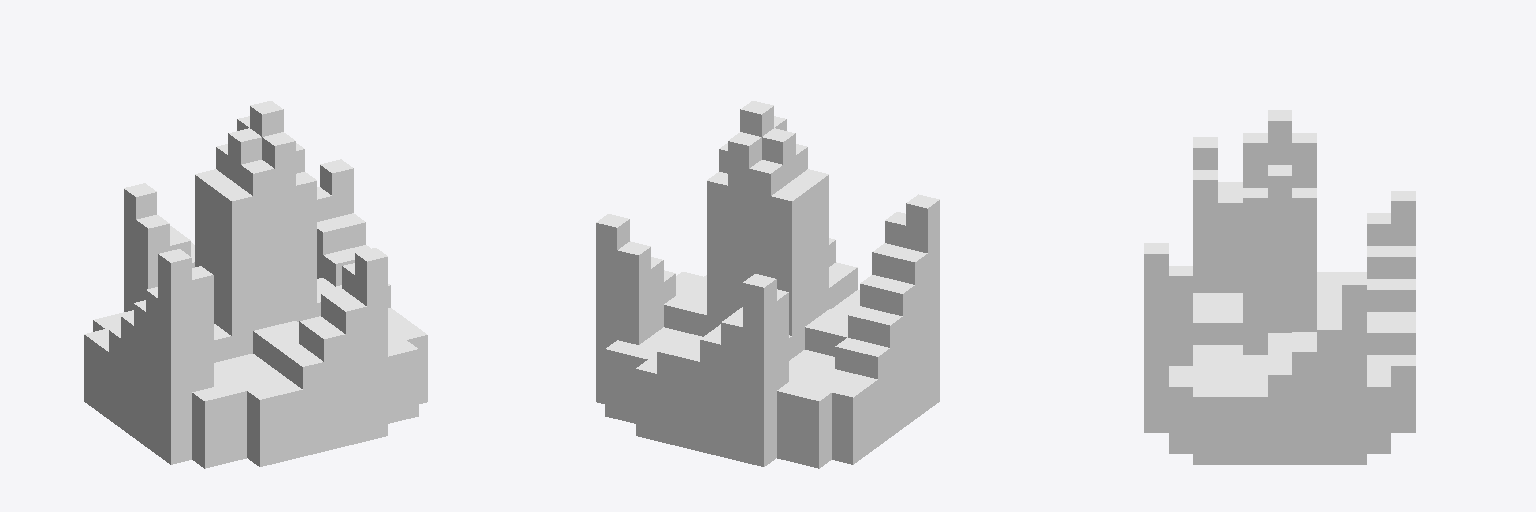
The model's file is nomal_ice_cube.obj.
3 views of the same model, side by side, from view 1: azimuth 30°, elevation 25°; view 2: azimuth 150°, elevation 25°; view 3: azimuth 270°, elevation 25° (orthographic).
Parts seen in each view (by area): view 1: object 1; view 2: object 1; view 3: object 1.
Part boxes in pixels (left/top/right/bottom): object 1: left=84, top=101, right=427, bottom=468; object 1: left=596, top=101, right=939, bottom=468; object 1: left=1144, top=110, right=1415, bottom=464.
Size of the model in its own units: 1.2 by 1.3 by 1.1.